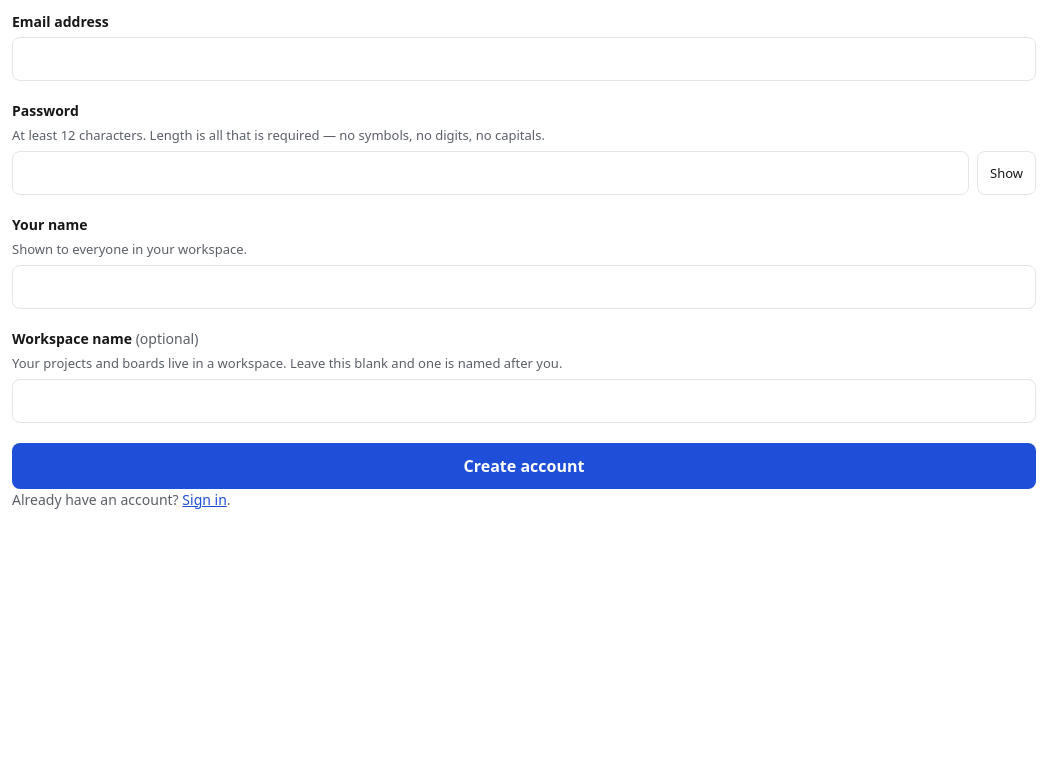
a duplicate address › says so, and offers the sign-in screen instead
Type "andy@example.com" into the field labelled "Email address" at (524, 59), box [12, 37, 1036, 81]
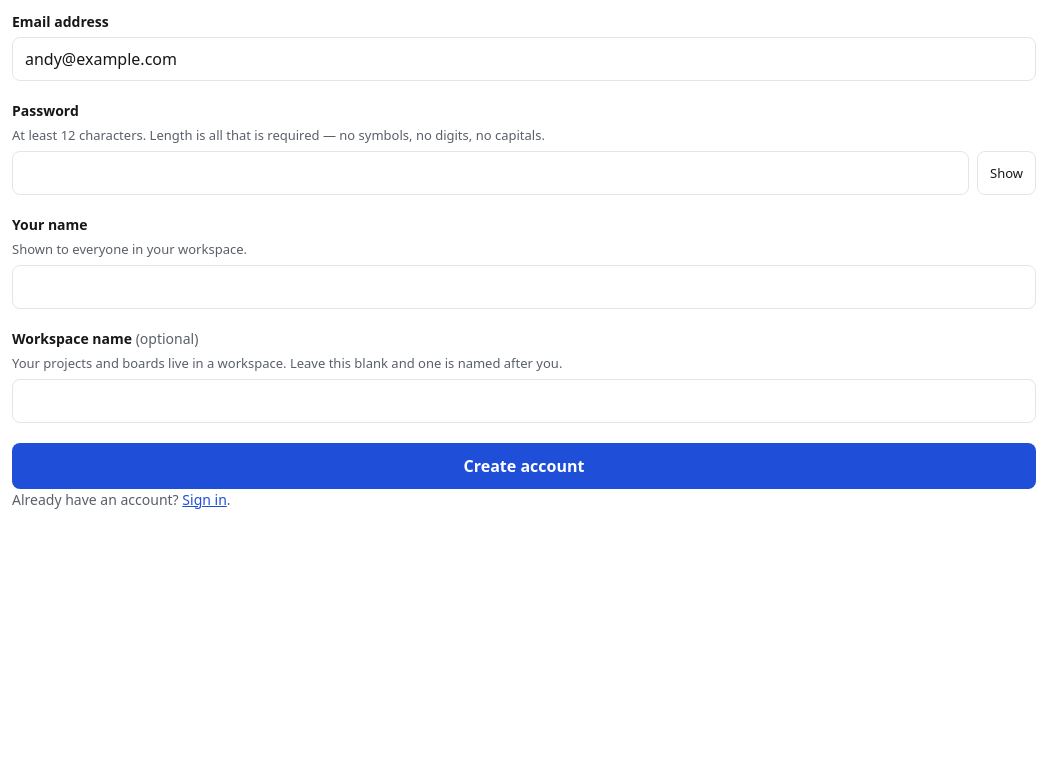
Type "correct horse battery" into the password field labelled "Password" at (490, 173), box [12, 151, 969, 195]
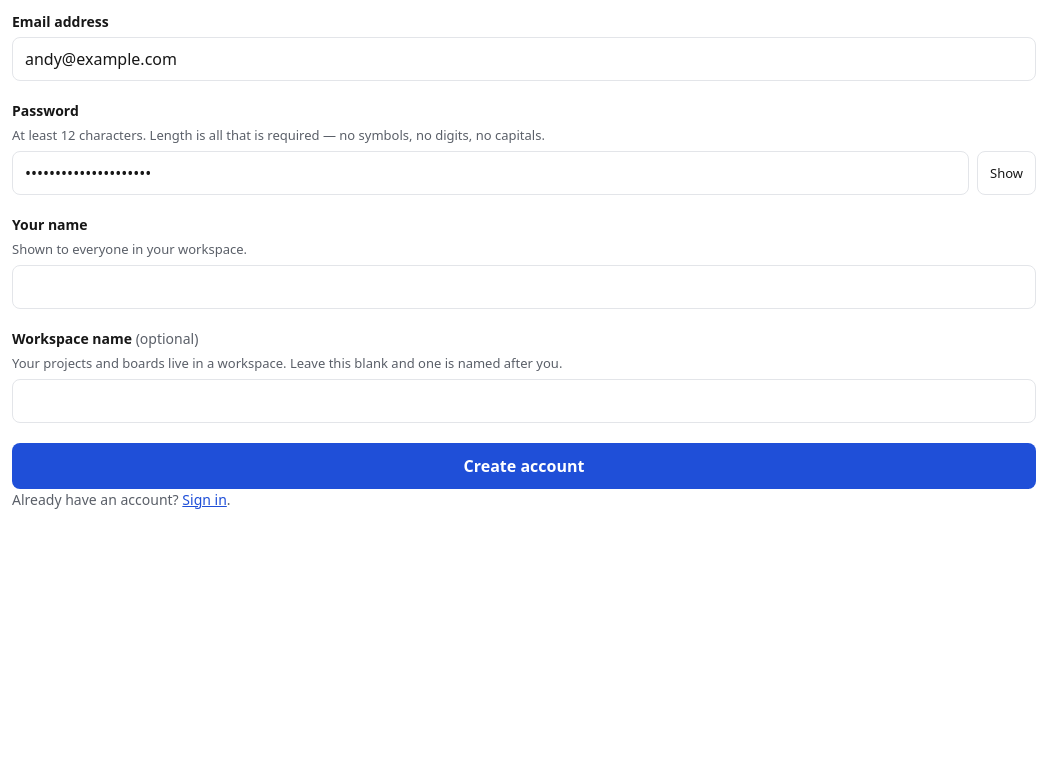
Type "Andy Vorndran" into the field labelled "Your name" at (524, 287), box [12, 265, 1036, 309]
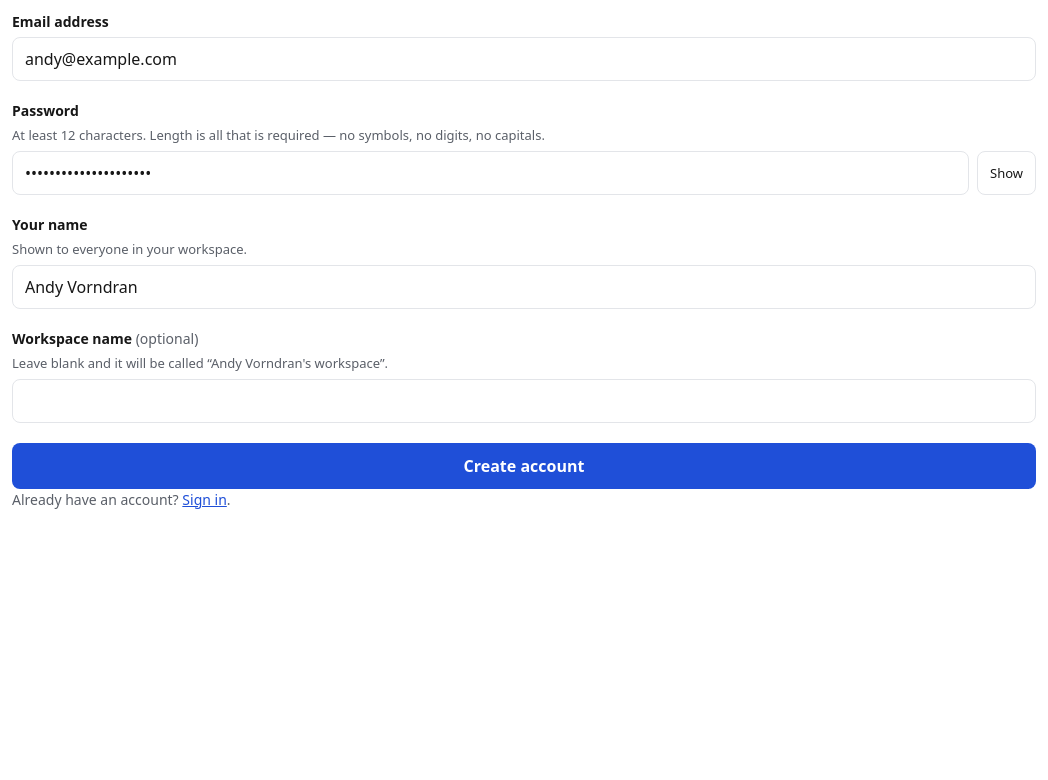
Submit the form named "Create account", box [12, 12, 1036, 488]
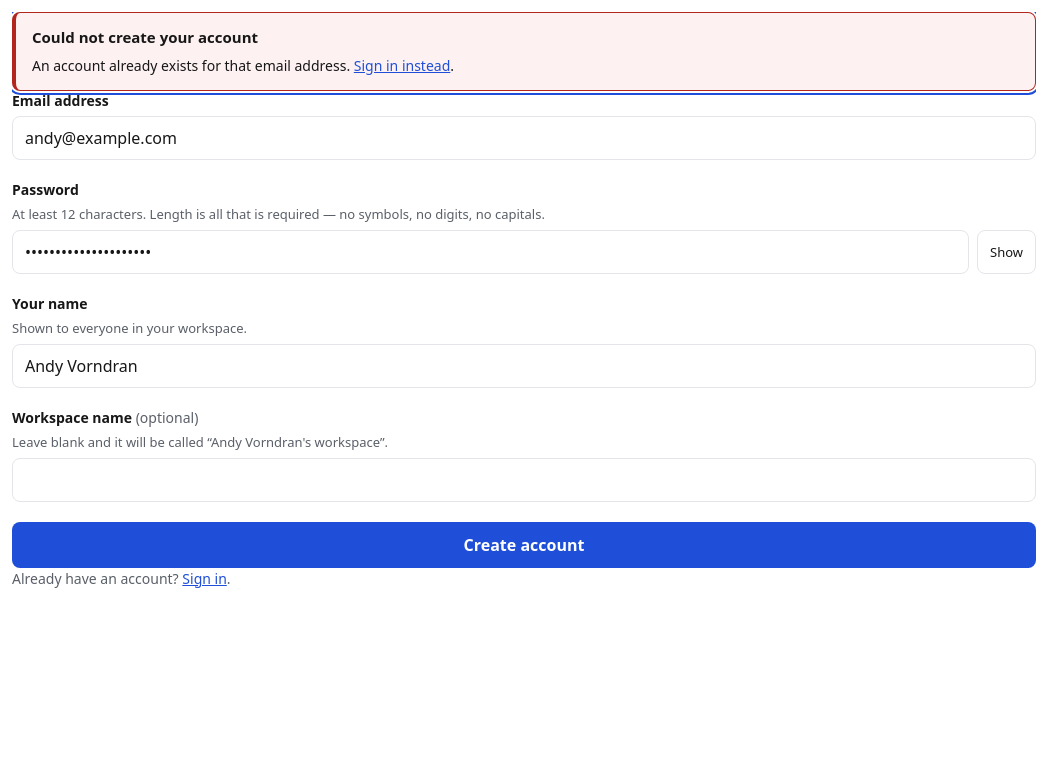
Expected: the message shows "already exists", [32, 56, 350, 75]
